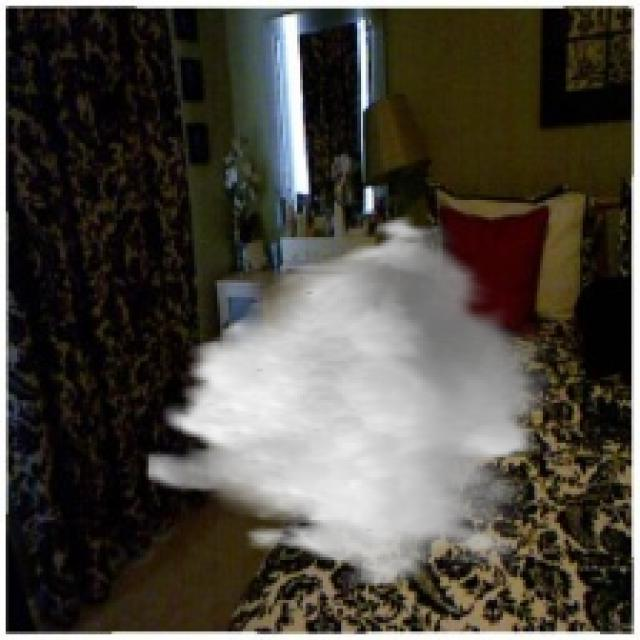Smoke: (146, 208, 552, 586)
